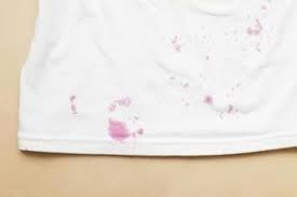wine: (103, 115, 134, 142), (245, 14, 271, 41), (68, 90, 86, 116), (193, 23, 212, 43), (170, 33, 185, 56), (107, 99, 131, 112), (222, 103, 237, 113), (225, 31, 238, 42), (201, 54, 215, 64), (179, 94, 190, 104), (203, 95, 215, 103), (221, 90, 230, 100), (231, 80, 243, 87), (170, 74, 178, 84), (138, 129, 146, 136), (181, 82, 189, 89)
